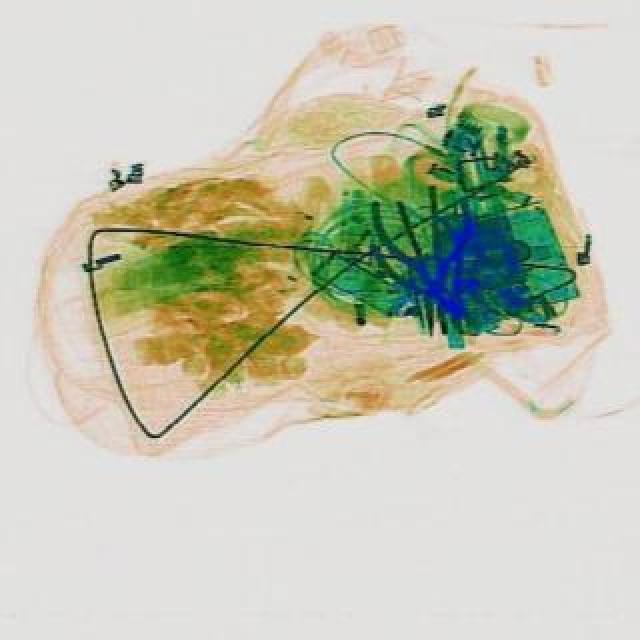wrench: (374, 212, 508, 352), (374, 194, 488, 344)
